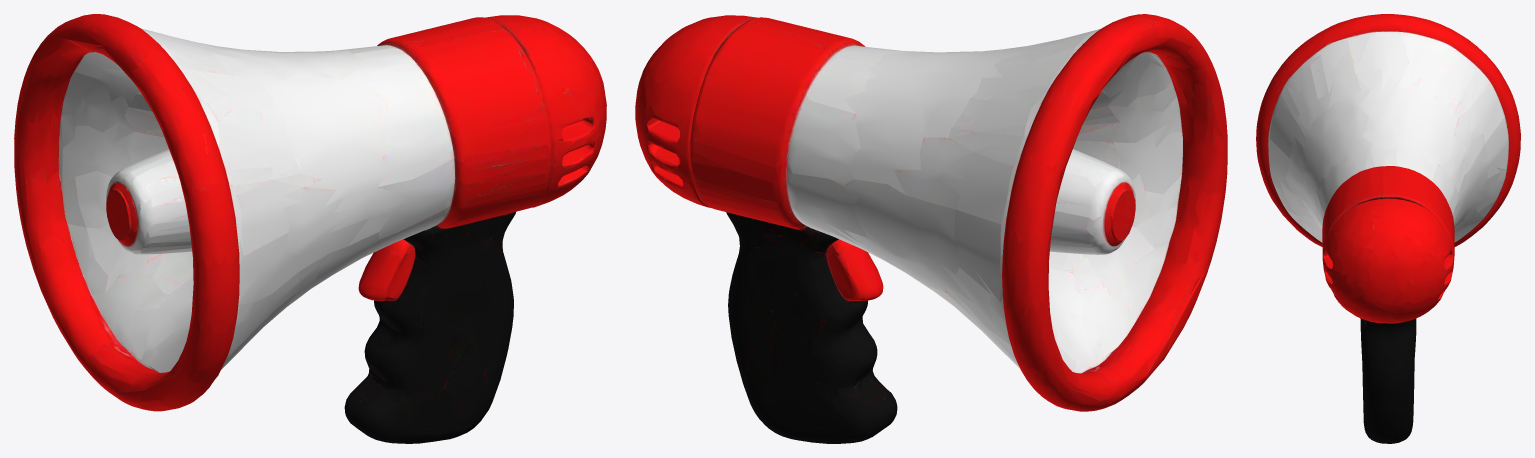
File: megafone.m.glb
3 views of the same model, side by side, from view 1: azimuth 30°, elevation 25°; view 2: azimuth 150°, elevation 25°; view 3: azimuth 270°, elevation 25° (orthographic). The views are drawn at different scales.
Parts seen in each view (by area): view 1: output_unwrapped; view 2: output_unwrapped; view 3: output_unwrapped.
Part boxes in pixels (x1,y1,x2,y2): output_unwrapped: (14, 14, 606, 443); output_unwrapped: (635, 14, 1227, 443); output_unwrapped: (1256, 14, 1520, 443).
Size of the model in its own units: 1.9 by 1.8 by 1.34.
Materials: 1 (1 with a texture image).
